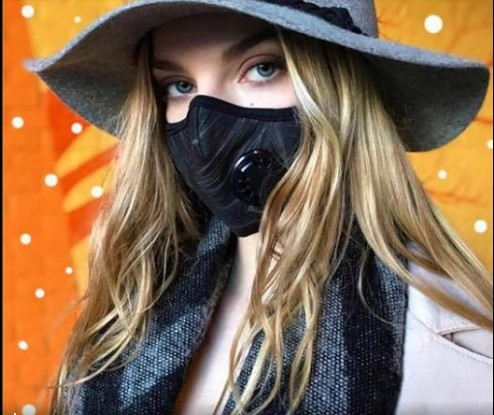face_with_mask: (124, 7, 366, 242)
